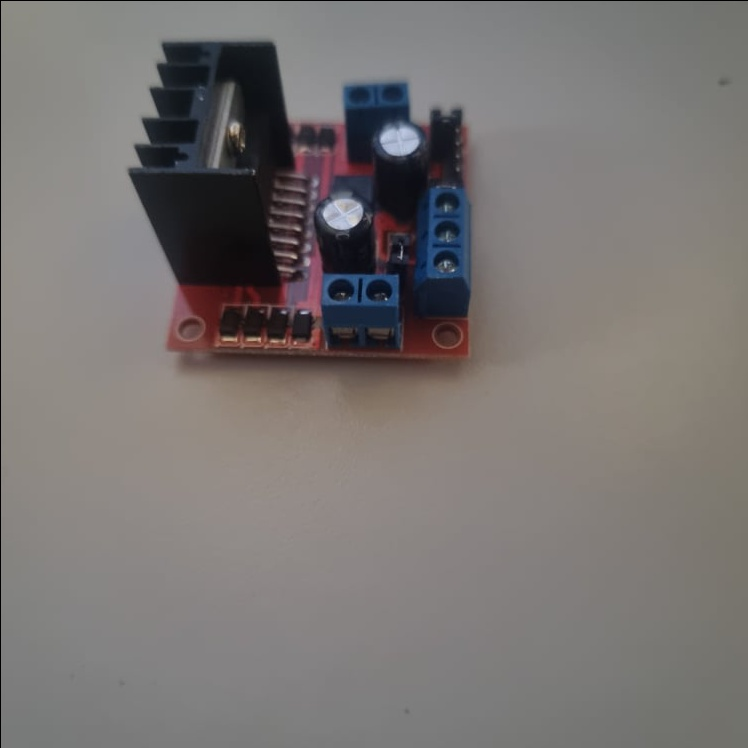MOTOR: (125, 41, 475, 357)
